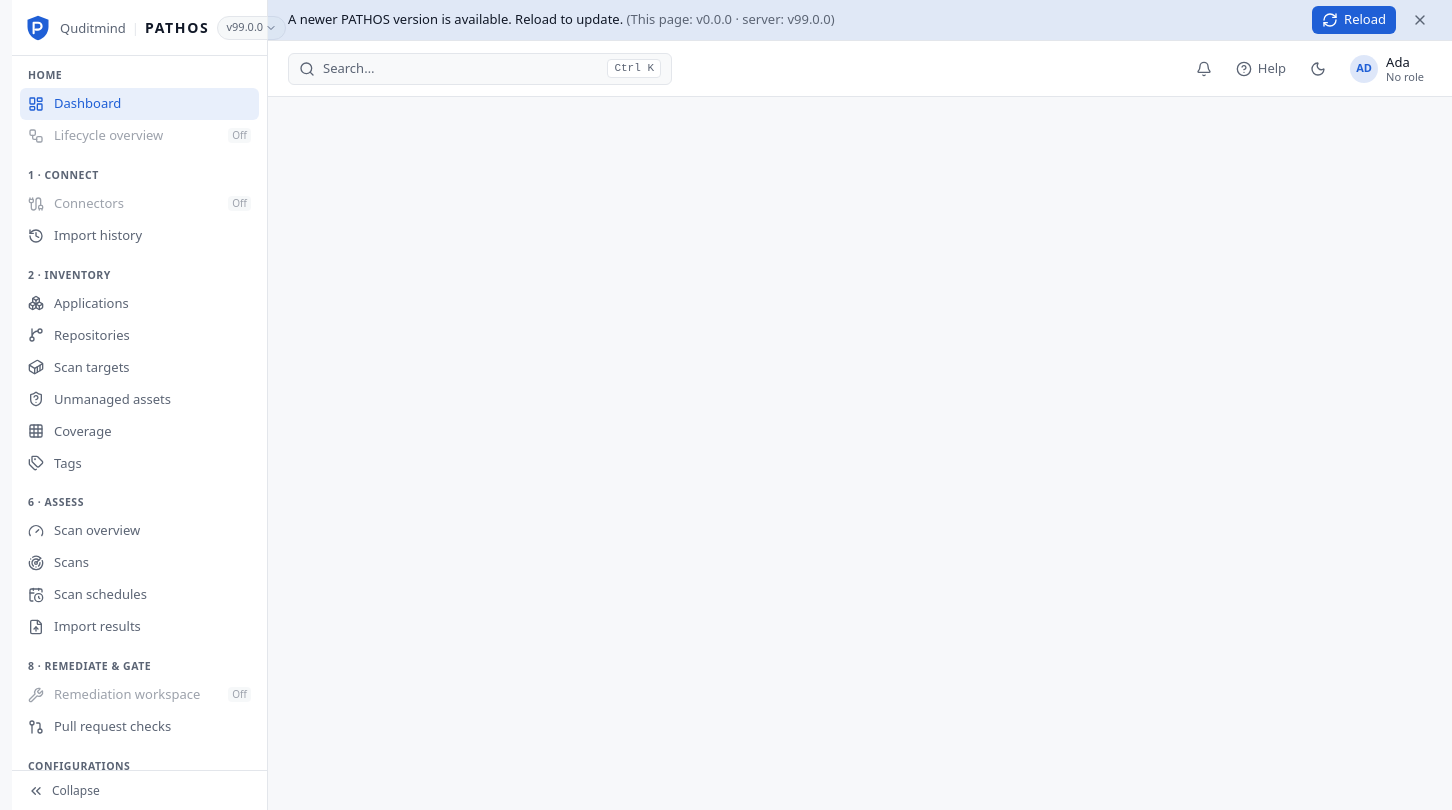
brand header › offers a reload when the server runs another version, and not otherwise
This screenshot has width=1452, height=810.
Check: the text "A newer PATHOS version is available" is shown, box [288,10,623,28]
Check: the button "Reload" is shown, box [1312,6,1396,34]
Click the button named "Dismiss version notice" at (1420, 20), box [1408,8,1432,32]
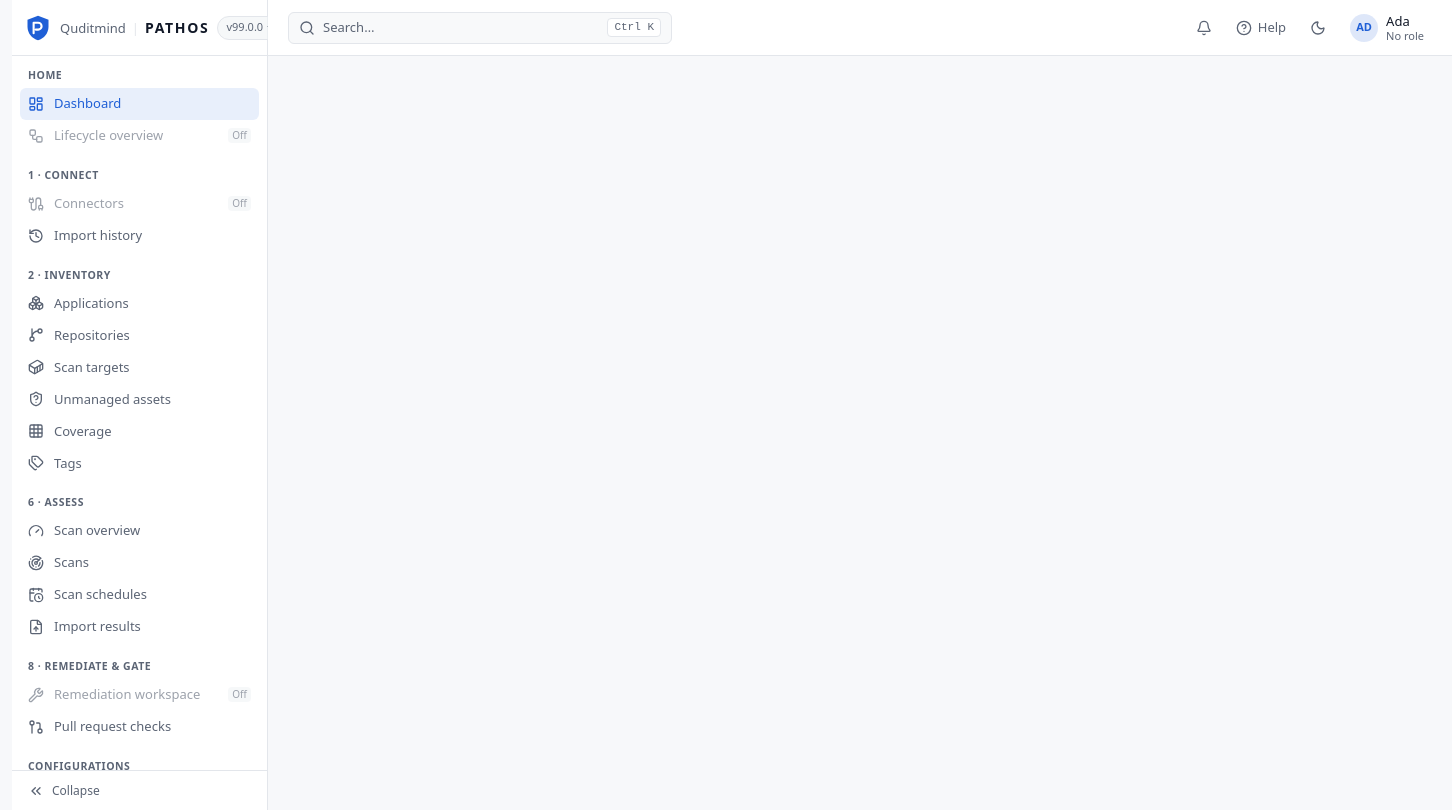
Check: the text "A newer PATHOS version is available" is gone
